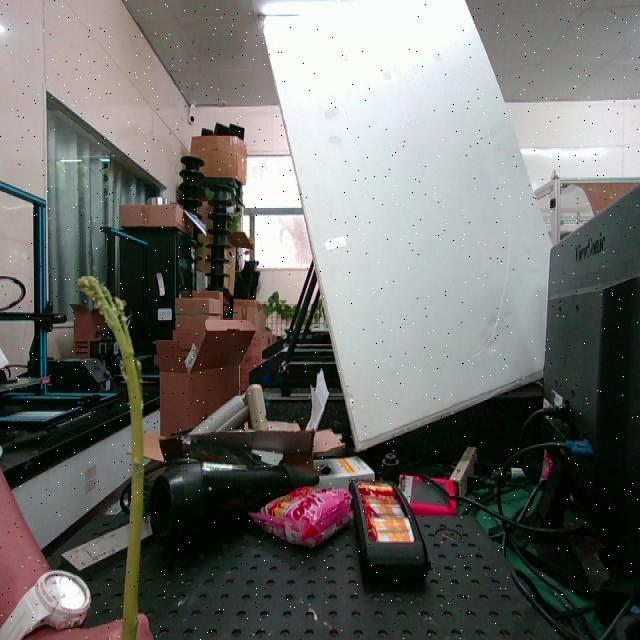aspargus: (82, 278, 146, 638)
